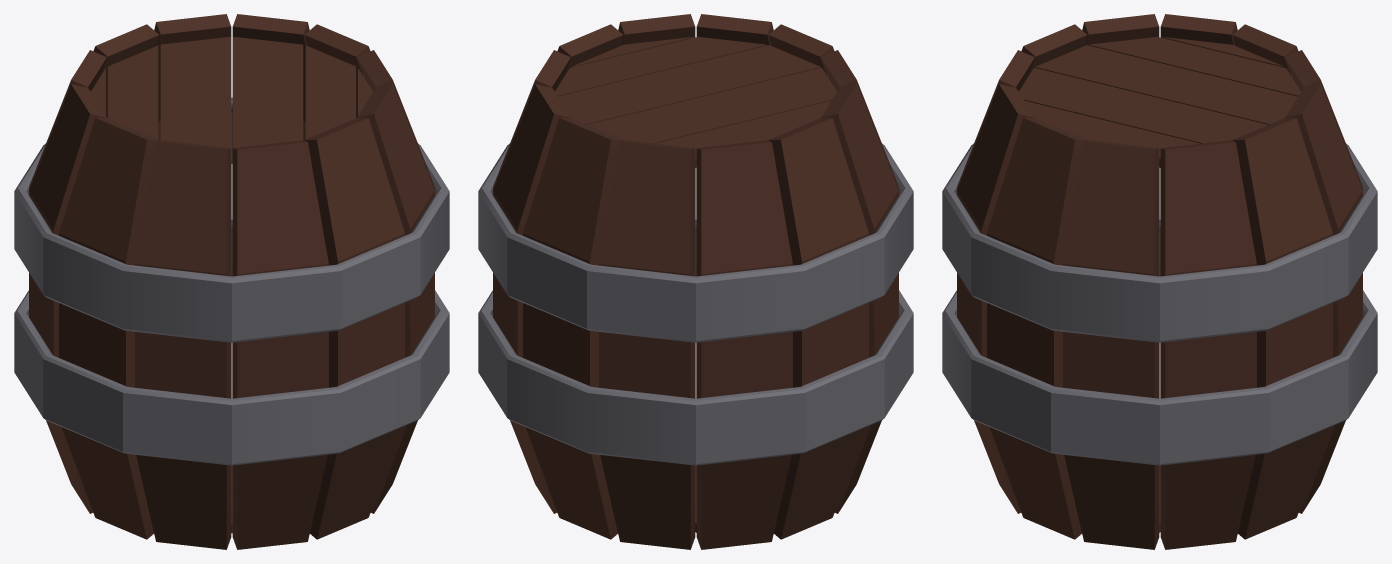
Rendered from Barrel texture.fbx.
The picture shows the model from 3 angles, left to right: view 1: azimuth 30°, elevation 25°; view 2: azimuth 150°, elevation 25°; view 3: azimuth 270°, elevation 25°; orthographic projection.
Parts seen in each view (by area): view 1: pCylinder3; view 2: pCylinder3; view 3: pCylinder3.
Part boxes in pixels (<box>): pCylinder3: <box>14,14,449,549</box>; pCylinder3: <box>478,14,913,549</box>; pCylinder3: <box>942,14,1377,549</box>.
Size of the model in its own units: 146 by 148 by 146.
